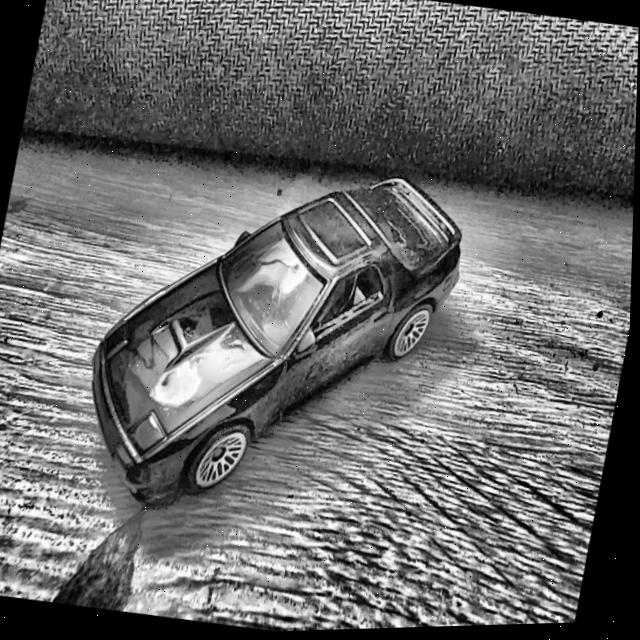car: (69, 135, 480, 552)
